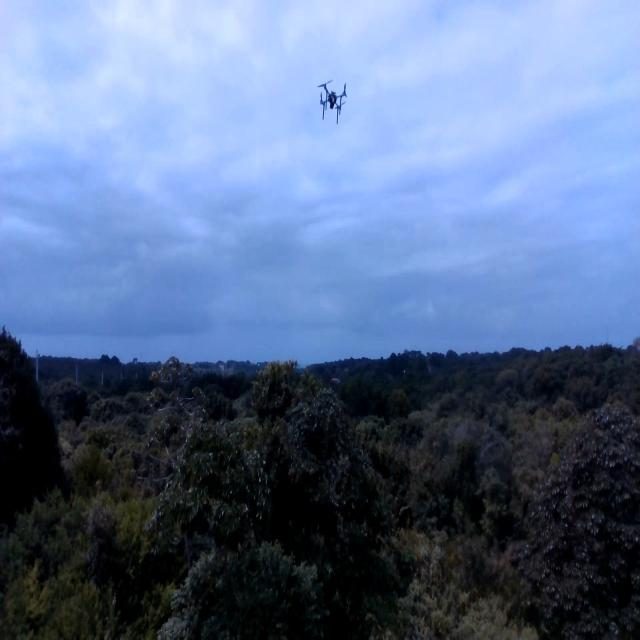-uav-: (313, 72, 352, 128)
